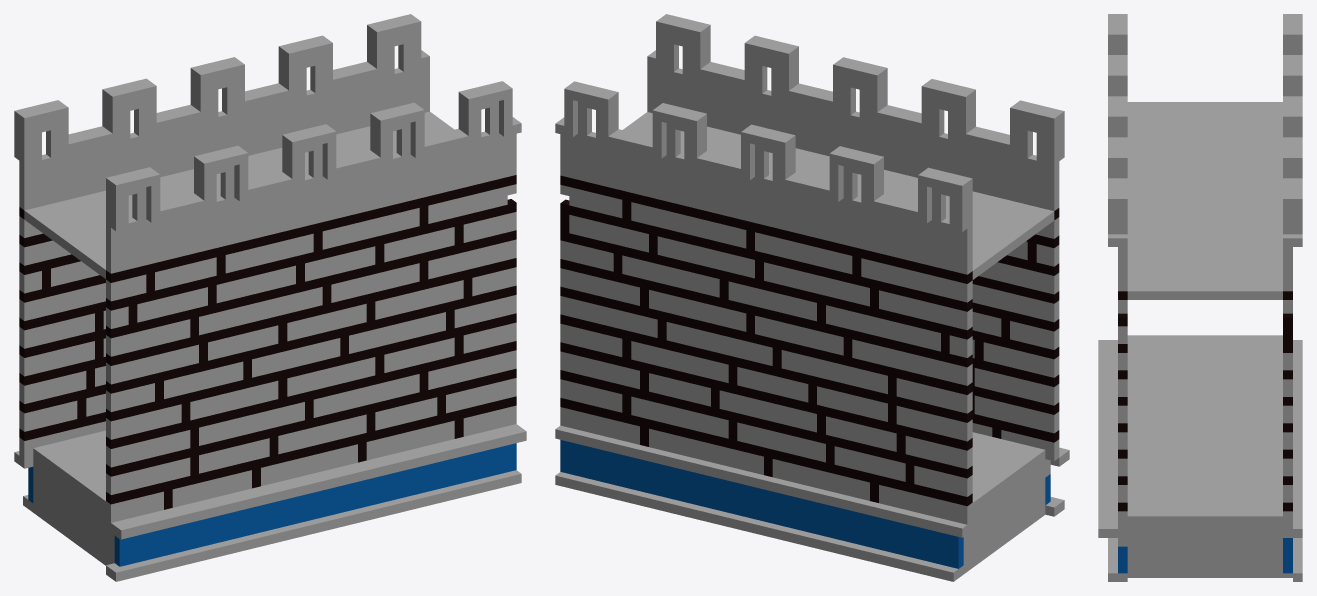
The model's file is Wall2.obj.
3 views of the same model, side by side, from view 1: azimuth 30°, elevation 25°; view 2: azimuth 150°, elevation 25°; view 3: azimuth 270°, elevation 25° (orthographic). The views are drawn at different scales.
Size of the model in its own units: 46 by 43 by 21.
1 material, 1 textured.
